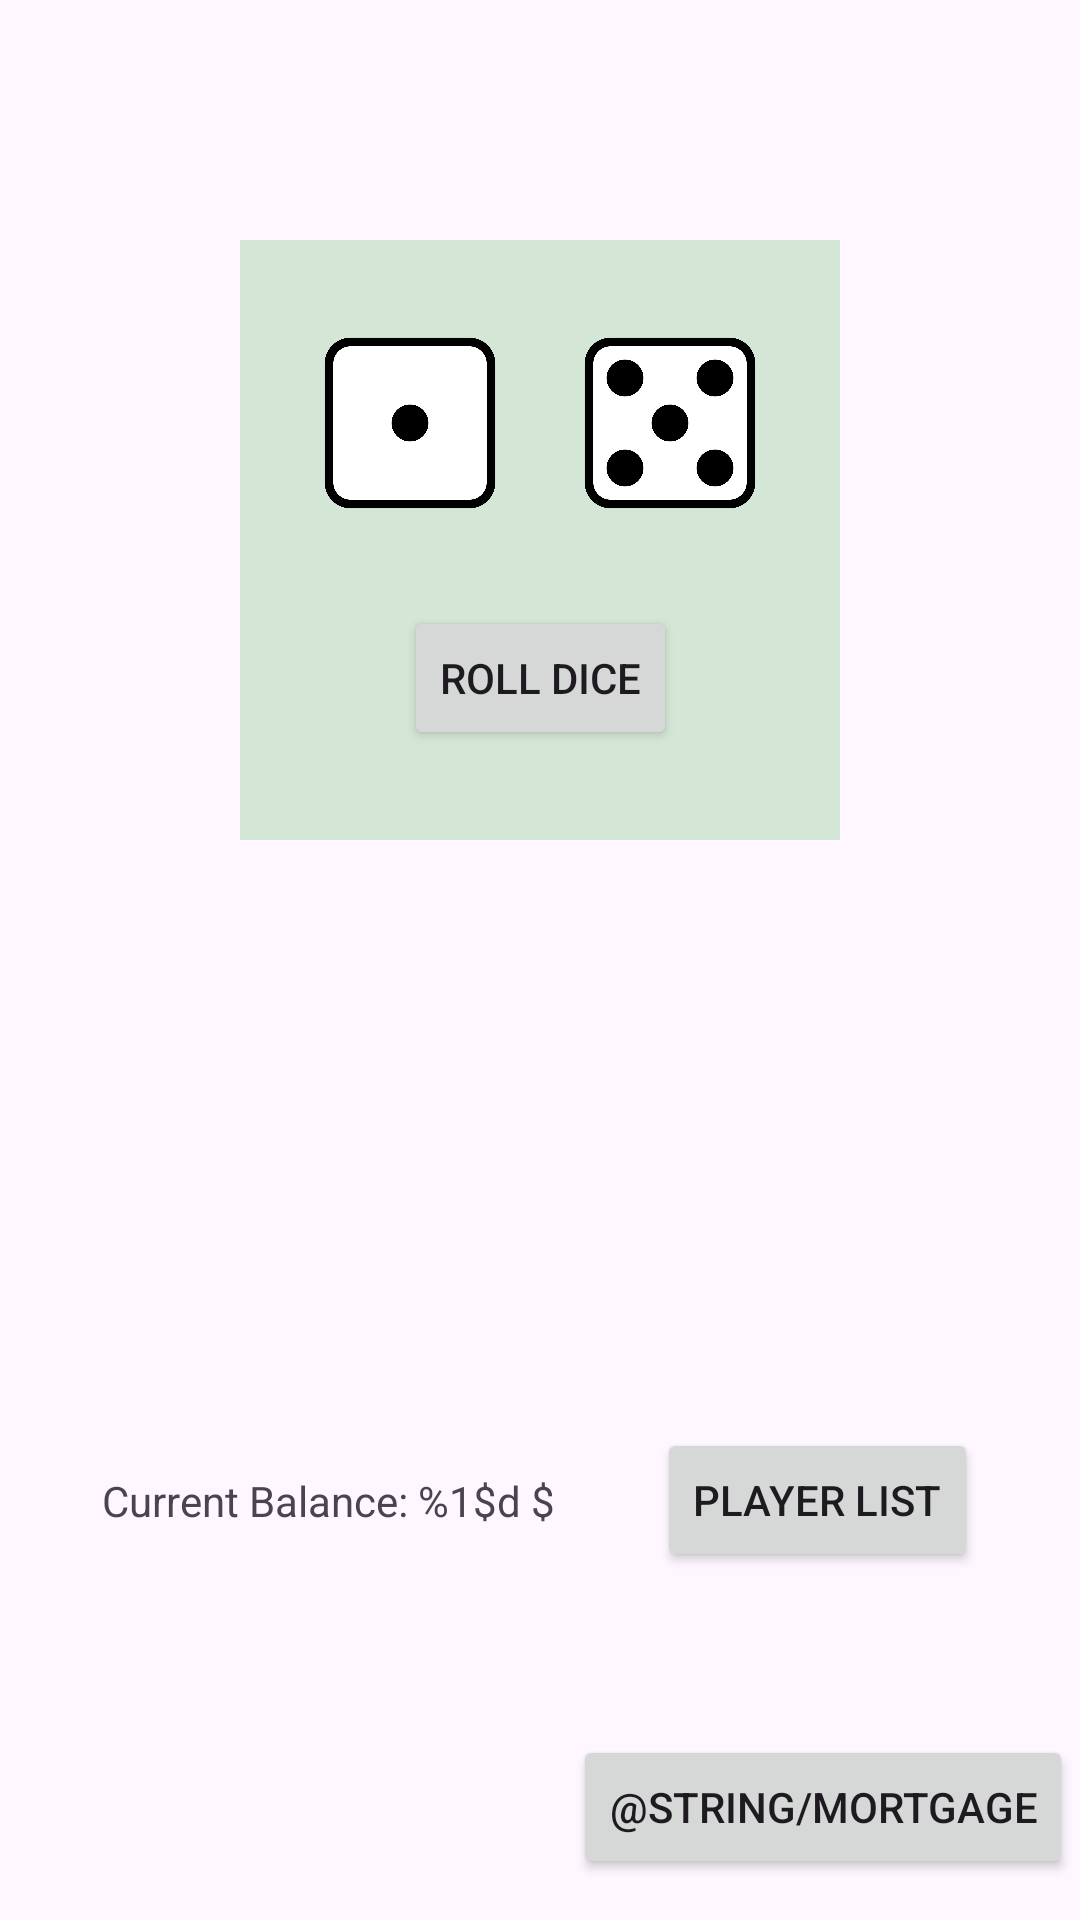

Screen size 1080px×1920px. Icon name, then its center in pixels as (x,y):
die: (410,423), (670,423)
